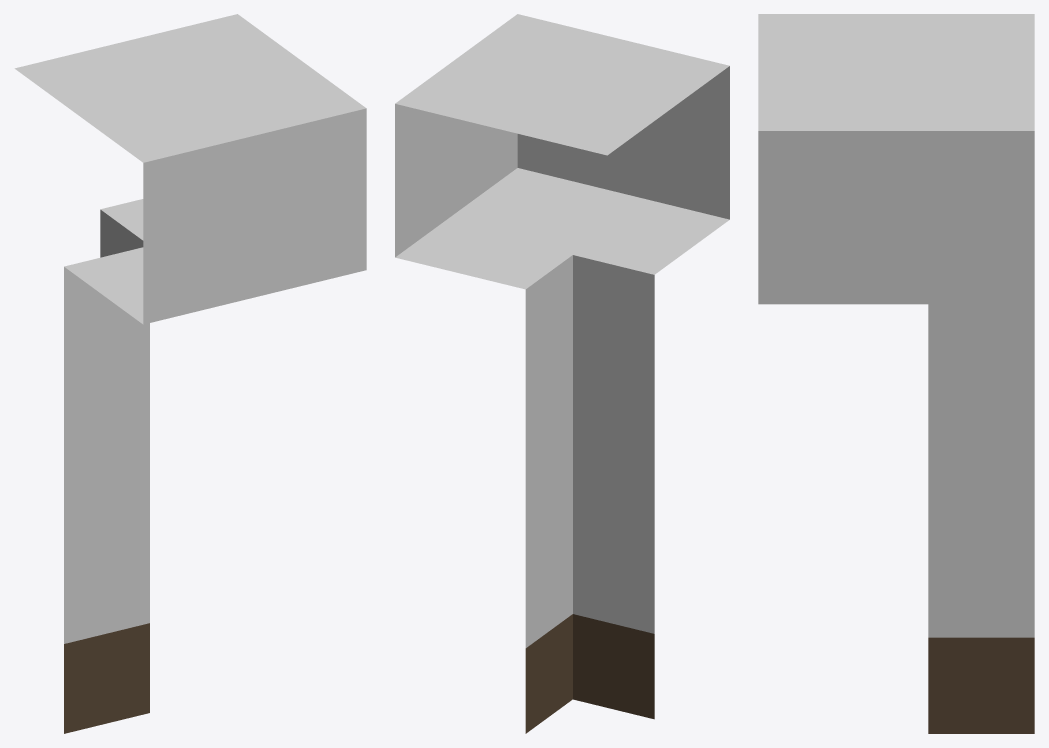
Rendered from M_WallHT50x50White80-3.fbx.
3 renders of one model, left to right at view 1: azimuth 30°, elevation 25°; view 2: azimuth 150°, elevation 25°; view 3: azimuth 270°, elevation 25°, orthographic. The views are drawn at different scales.
Parts seen in each view (by area): view 1: M_WallHT50x50White80-3; view 2: M_WallHT50x50White80-3; view 3: M_WallHT50x50White80-3.
Boxes of the visible parts, box(x1,y1,x2,y2) form: M_WallHT50x50White80-3: box(14, 14, 366, 733); M_WallHT50x50White80-3: box(395, 14, 729, 733); M_WallHT50x50White80-3: box(758, 14, 1034, 733).
Size of the model in its own units: 130 by 130 by 350.
